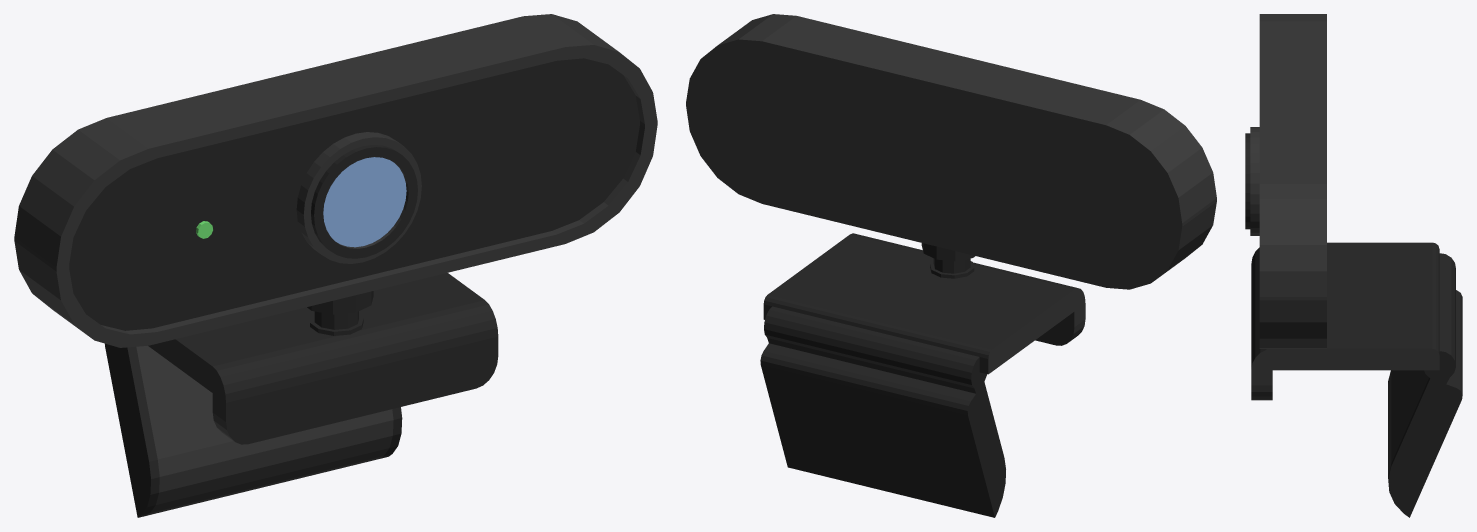
File: Webcam.glb
3 views of the same model, side by side, from view 1: azimuth 30°, elevation 25°; view 2: azimuth 150°, elevation 25°; view 3: azimuth 270°, elevation 25° (orthographic). The views are drawn at different scales.
Visible parts, largest first — view 1: Cylinder; view 2: Cylinder; view 3: Cylinder.
Part boxes in pixels (bbox=[...]): Cylinder: bbox=[14, 14, 657, 517]; Cylinder: bbox=[686, 14, 1216, 517]; Cylinder: bbox=[1245, 14, 1462, 517].
Bounding box in the file's own units: 2 × 1.46 × 0.7834.
